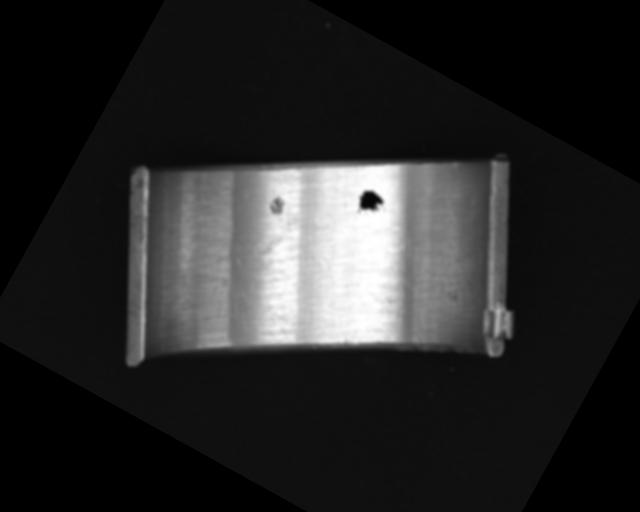blot: (352, 185, 393, 225)
bruise: (265, 192, 290, 219)
nick: (449, 159, 464, 175)
